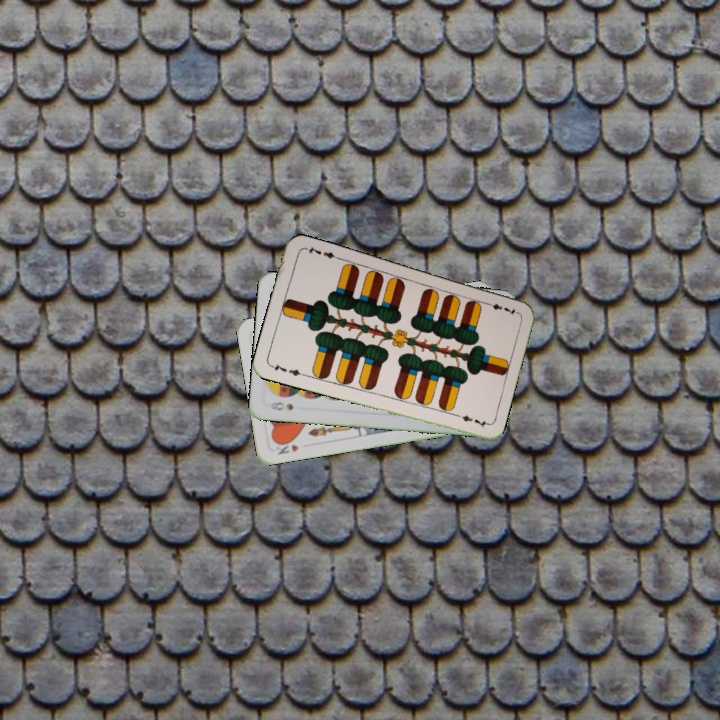E7: (267, 359, 307, 379), (480, 298, 520, 317)
HK: (272, 436, 301, 457)
S8: (267, 398, 296, 413)
